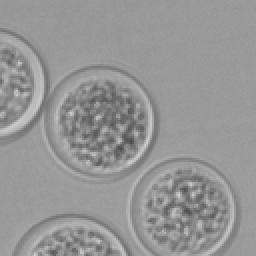picoshell: (42, 66, 156, 180), (128, 160, 234, 254), (0, 28, 46, 142), (14, 216, 126, 254)
